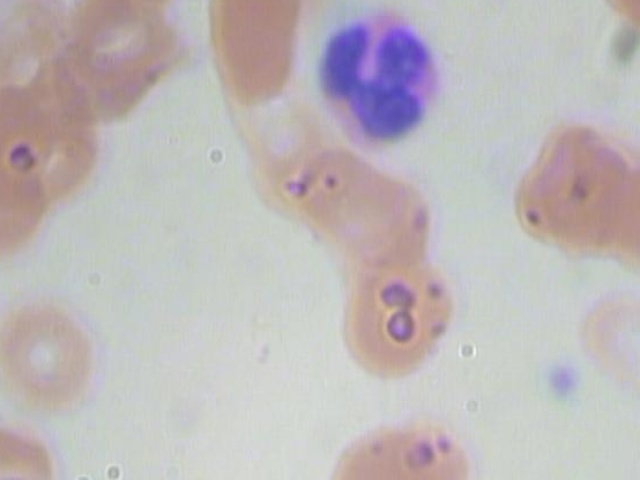Platelets: (535, 360, 582, 402)
RBC: (0, 285, 109, 418), (506, 126, 609, 260), (546, 124, 640, 258), (359, 251, 465, 369), (203, 0, 302, 112), (332, 171, 437, 276), (370, 397, 489, 480), (575, 275, 640, 405), (0, 407, 93, 480), (314, 422, 420, 480), (602, 140, 640, 268), (590, 0, 640, 39)
WBC: (300, 0, 453, 156)
